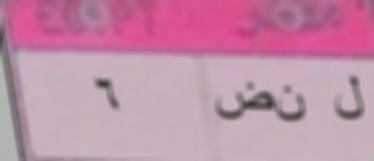6: (92, 77, 121, 111)
daad: (212, 73, 274, 130)
laam: (330, 68, 368, 130)
noon: (275, 85, 307, 126)
